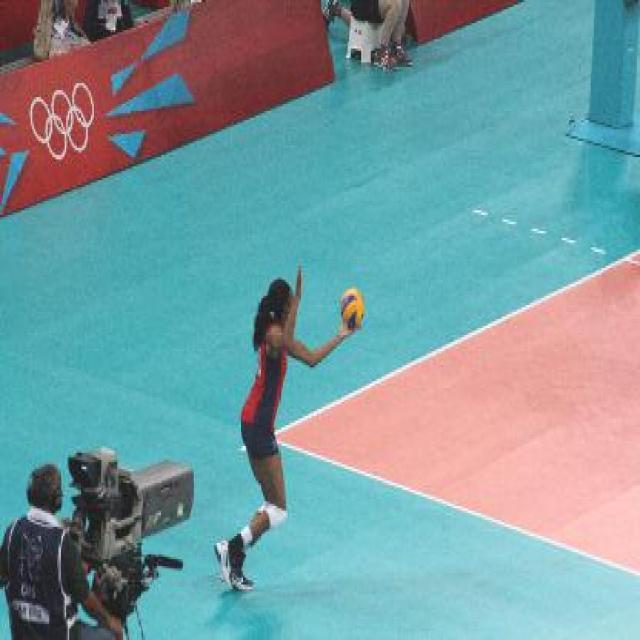volleyball: (340, 288, 363, 331)
